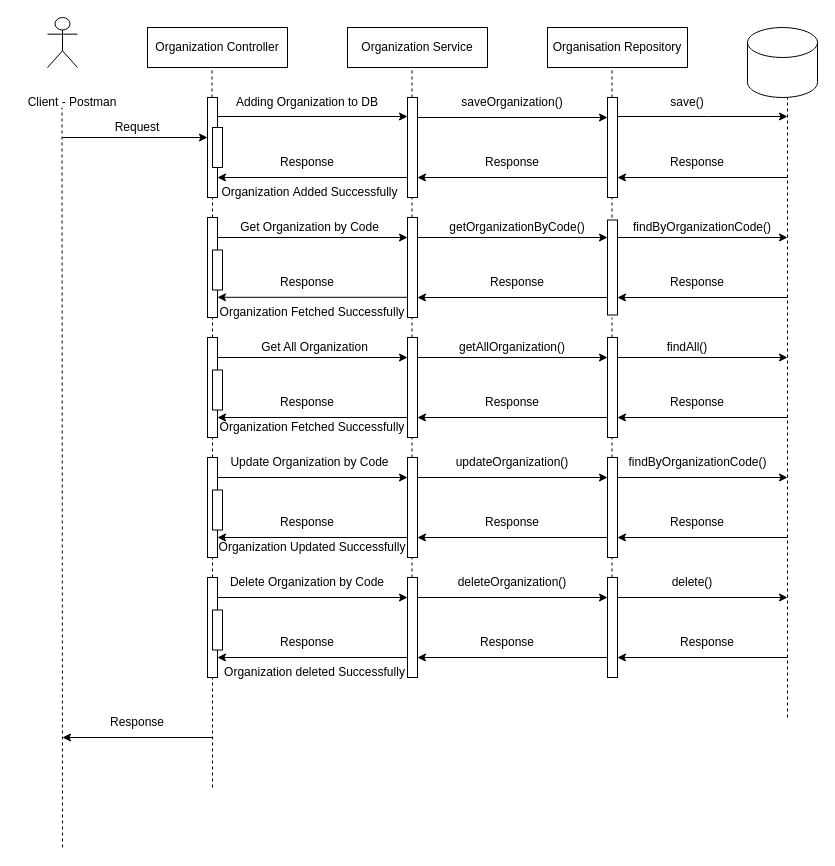
Image size: 835x866. Some labels were removed from this diagram. The box of each missing label's shape, as (x1, y1, x2, y2) in pixels:
Actor: (46, 16, 78, 68)
MySql DB: (746, 26, 818, 98)
